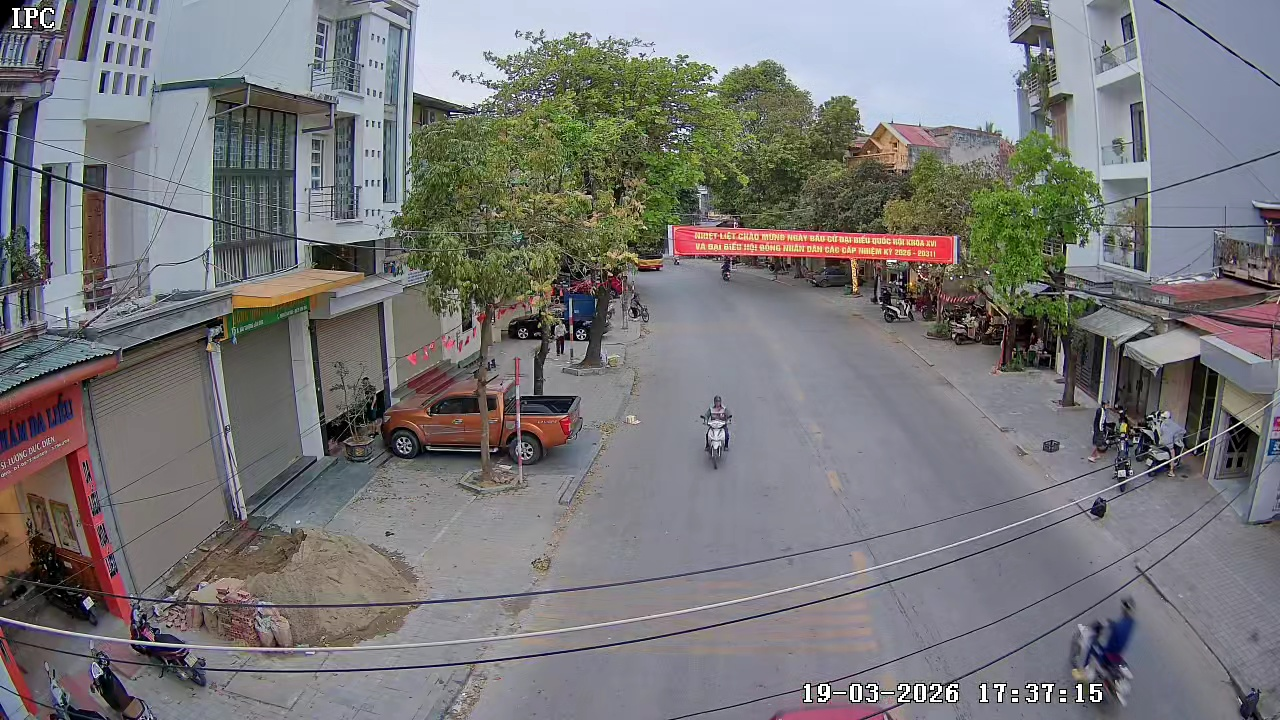motorbike: (1066, 599, 1139, 716), (698, 393, 734, 470)
truck: (379, 372, 584, 461)
